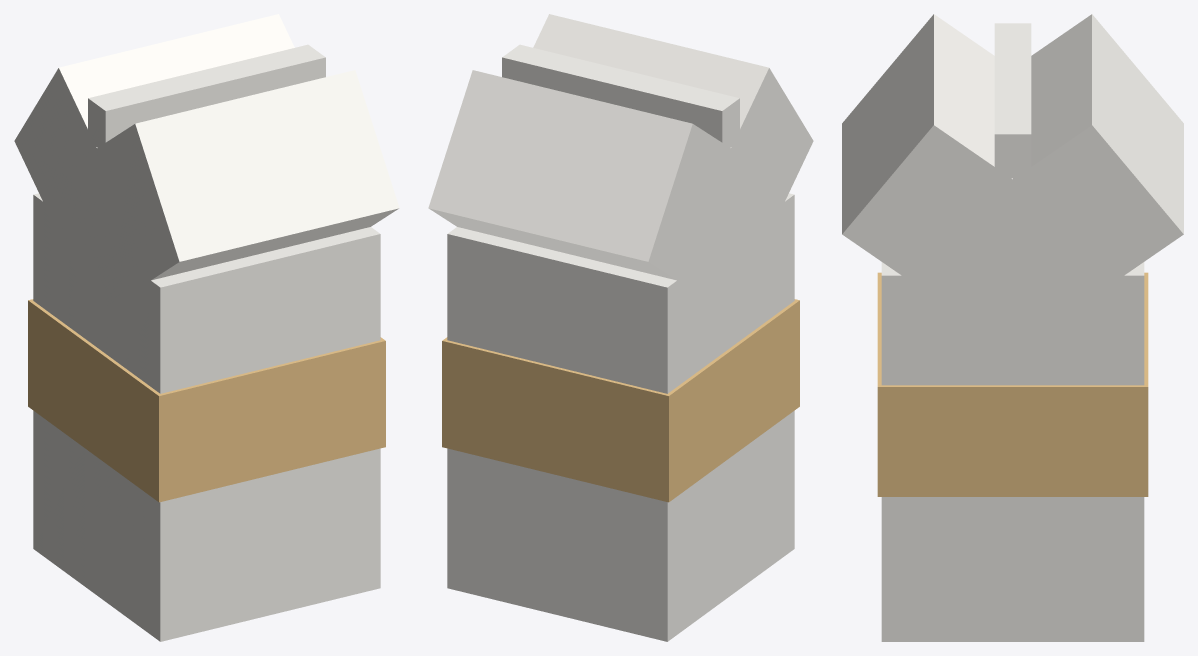
The model's file is food_krema.glb.
3 views of the same model, side by side, from view 1: azimuth 30°, elevation 25°; view 2: azimuth 150°, elevation 25°; view 3: azimuth 270°, elevation 25° (orthographic). The views are drawn at different scales.
Visible parts, largest first — view 1: FoodNode_krema; view 2: FoodNode_krema; view 3: FoodNode_krema.
Boxes of the visible parts, x1=… form: FoodNode_krema: x1=14, y1=14, x2=399, y2=641; FoodNode_krema: x1=428, y1=14, x2=813, y2=641; FoodNode_krema: x1=842, y1=14, x2=1183, y2=641.
Size of the model in its own units: 0.134 by 0.2821 by 0.169.
